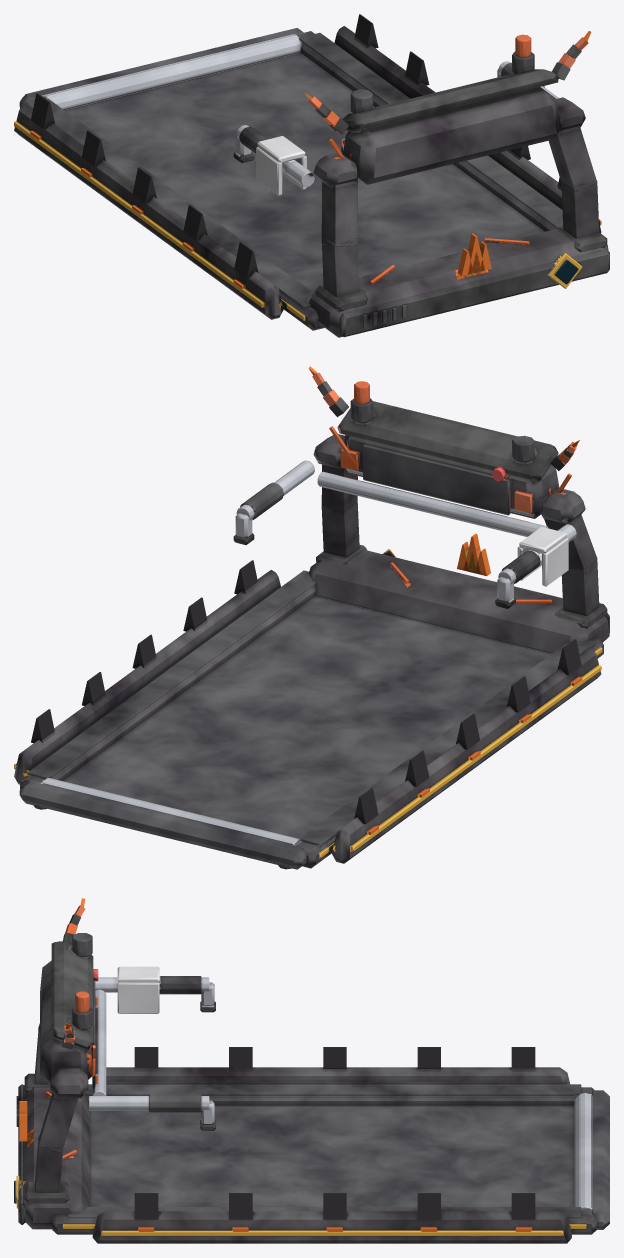
File: Treadmill_Lave_Rig.fbx
3 renders of one model, top to bottom at view 1: azimuth 30°, elevation 25°; view 2: azimuth 150°, elevation 25°; view 3: azimuth 270°, elevation 25°, orthographic. The views are drawn at different scales.
Visible parts, largest first — view 1: Frame, Console, Decor; view 2: Frame, Console, Decor; view 3: Frame, Decor, Console.
Boxes of the visible parts, x1,y1,x2,y2 form: Frame: (19, 28, 609, 337); Console: (233, 34, 607, 311); Decor: (14, 14, 601, 319); Frame: (19, 549, 609, 869); Console: (233, 381, 607, 628); Decor: (14, 366, 601, 863); Frame: (14, 1084, 609, 1234); Decor: (19, 898, 571, 1243); Console: (24, 933, 215, 1204).
Bounding box in the file's own units: 9.33 × 6 × 15.26.
Materials: 1 (1 with a texture image).
